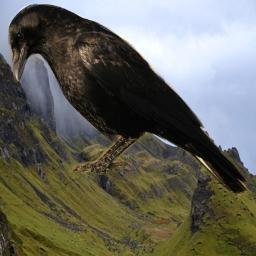Crow: (8, 3, 251, 196)
